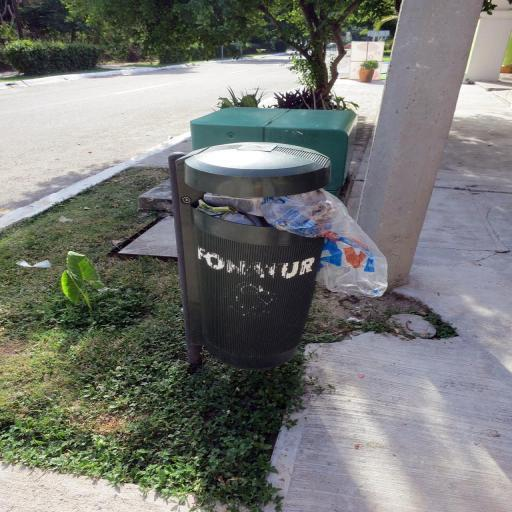trash-can: (168, 140, 337, 374)
